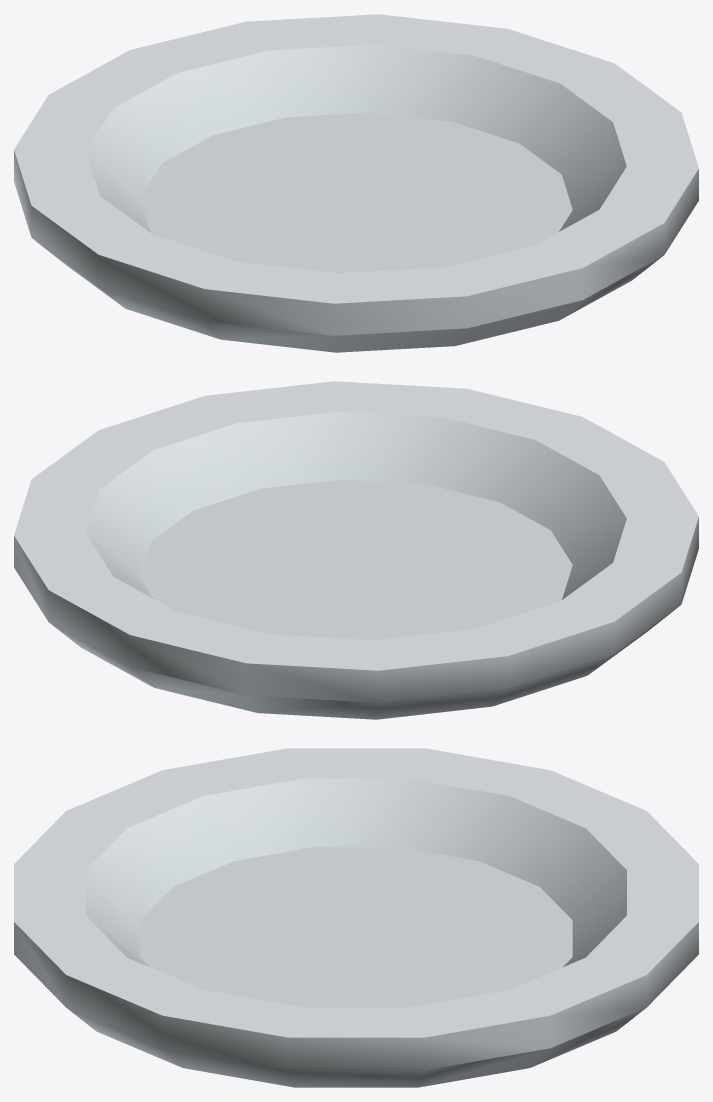
The model's file is plate.obj.
3 views of the same model, one above another, from view 1: azimuth 30°, elevation 25°; view 2: azimuth 150°, elevation 25°; view 3: azimuth 270°, elevation 25° (orthographic).
Parts seen in each view (by area): view 1: plate_Cylinder.105; view 2: plate_Cylinder.105; view 3: plate_Cylinder.105.
Part boxes in pixels (<box>): plate_Cylinder.105: <box>14,14,698,352</box>; plate_Cylinder.105: <box>14,381,698,719</box>; plate_Cylinder.105: <box>14,748,698,1087</box>.
Size of the model in its own units: 0.95 by 0.1 by 0.95.
Materials: 1 (1 with a texture image).
